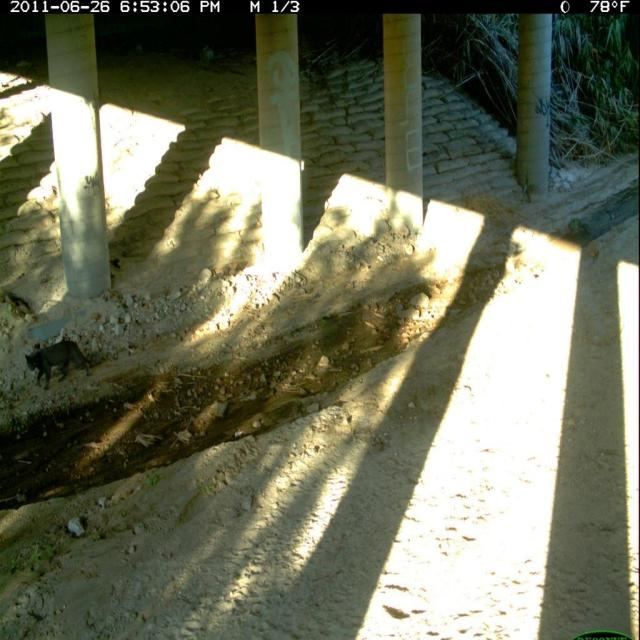cat: (22, 332, 99, 397)
